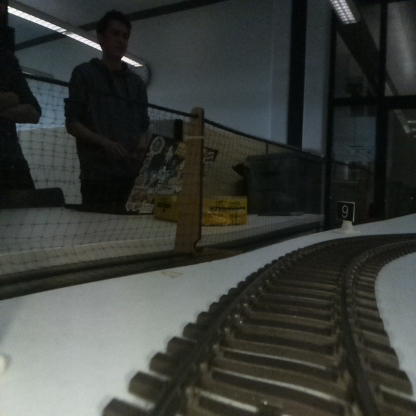black-stop-9: (337, 202, 353, 232)
